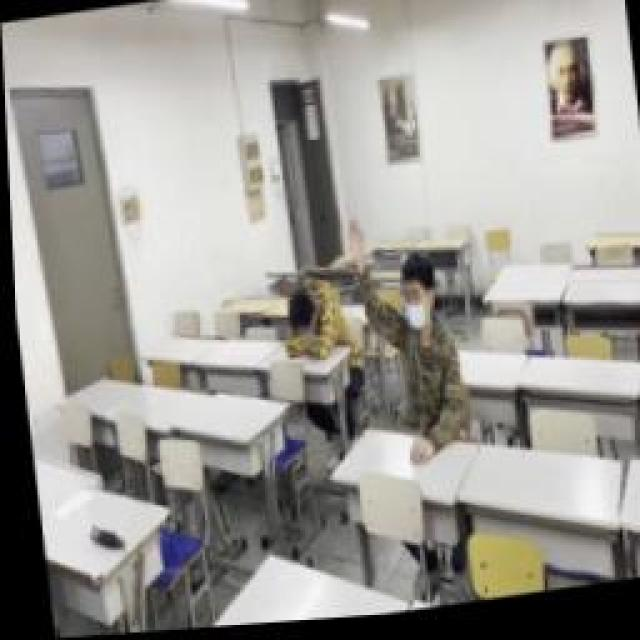sleep: (275, 287, 340, 365)
study: (340, 210, 465, 475)
